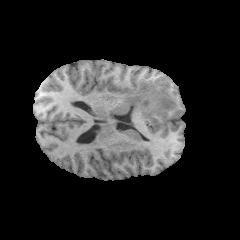glioma: (124, 80, 176, 116)
